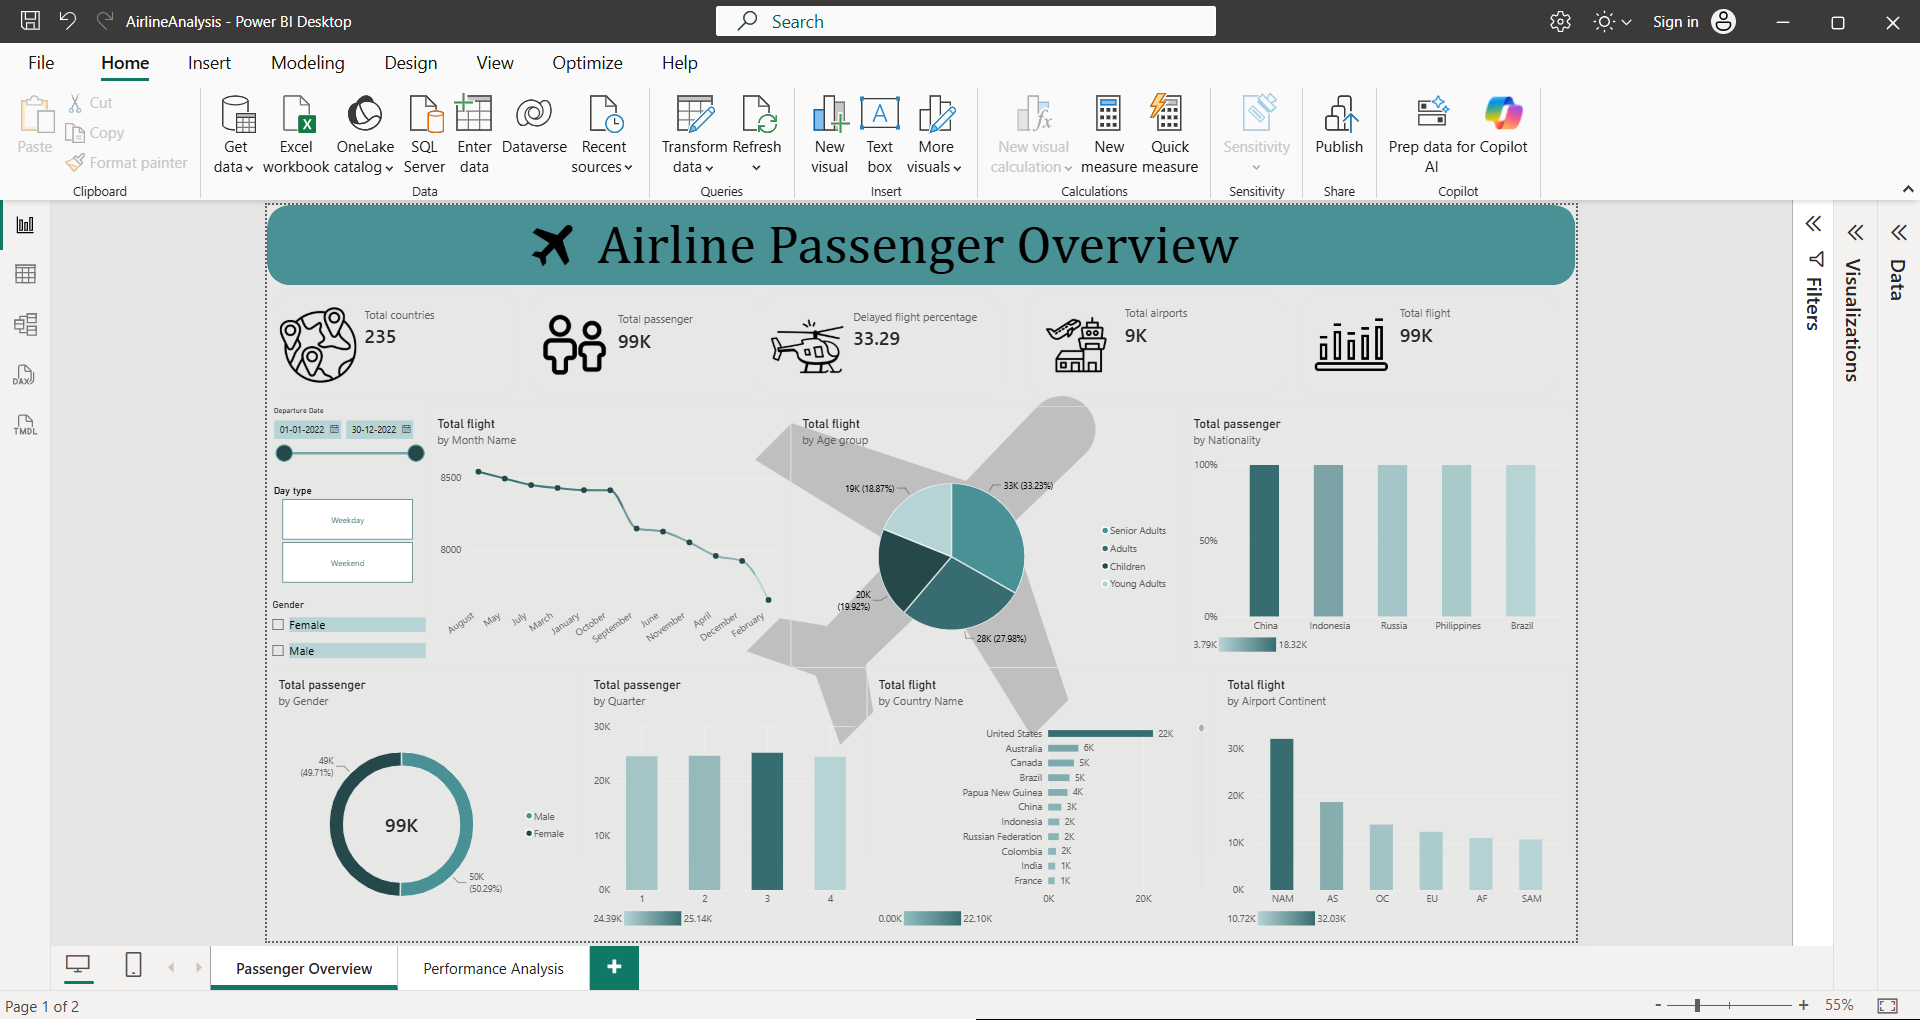

The page's visual inventory and layout, read from the dashboard file:
{"tool":"powerbi","page":{"name":"Passenger Overview","canvas":[1920,1080],"ordinal":0},"visuals":[{"type":"shape","box":[0,0,1920.1,117.6],"z":0},{"type":"cardVisual","title":"\tCountries Covered","fields":{"Data":["Airline Dataset Updated - v2.Total countries"]},"box":[1.8,130.2,365,150.4],"z":1000},{"type":"cardVisual","fields":{"Data":["Airline Dataset Updated - v2.On Time flight percentage"]},"box":[720.9,132.1,359.5,150.4],"z":2000},{"type":"cardVisual","fields":{"Data":["Airline Dataset Updated - v2.Total passenger"]},"box":[383.4,132.1,337.5,150.4],"z":3000},{"type":"cardVisual","fields":{"Data":["Airline Dataset Updated - v2.Total airports"]},"box":[1111.6,130.2,381.5,150.4],"z":4000},{"type":"cardVisual","fields":{"Data":["Airline Dataset Updated - v2.Total flight"]},"box":[1515.1,130.2,381.5,150.4],"z":5000},{"type":"lineChart","fields":{"Category":["Airline Dataset Updated - v2.Month Name"],"Y":["Airline Dataset Updated - v2.Total flight"]},"box":[233.4,295,535.7,383.6],"z":6000},{"type":"pieChart","fields":{"Category":["Airline Dataset Updated - v2.Age group"],"Y":["Airline Dataset Updated - v2.Total flight"]},"box":[769.1,295,577.3,383.6],"z":7000},{"type":"hundredPercentStackedColumnChart","fields":{"Category":["Airline Dataset Updated - v2.Nationality"],"Y":["Airline Dataset Updated - v2.Total passenger"]},"box":[1342.8,295,577.3,383.6],"z":8000},{"type":"donutChart","fields":{"Category":["Airline Dataset Updated - v2.Gender"],"Y":["Airline Dataset Updated - v2.Total passenger"]},"box":[0,678.7,462.2,401.7],"z":9000},{"type":"clusteredBarChart","fields":{"Category":["Airline Dataset Updated - v2.Country Name"],"Y":["Airline Dataset Updated - v2.Total flight"]},"box":[880.4,678.7,511.8,401.7],"z":10000},{"type":"columnChart","fields":{"Category":["Airline Dataset Updated - v2.Airport Continent"],"Y":["Airline Dataset Updated - v2.Total flight"]},"box":[1392.2,678.7,528.3,401.7],"z":11000},{"type":"image","box":[165.1,29.3,506.3,60.5],"z":12000},{"type":"slicer","fields":{"Values":["Airline Dataset Updated - v2.Departure Date"]},"box":[1.8,295.3,232.9,115.6],"z":13000},{"type":"slicer","fields":{"Values":["Airline Dataset Updated - v2.Gender"]},"box":[0,577.8,232.9,100.9],"z":14000},{"type":"clusteredColumnChart","fields":{"Category":["Airline Dataset Updated - v2.Quarter"],"Y":["Airline Dataset Updated - v2.Total passenger"]},"box":[462.2,678.7,418.2,401.7],"z":15000},{"type":"slicer","fields":{"Values":["Airline Dataset Updated - v2.Day type"]},"box":[1.8,410.9,231.1,144.9],"z":16000}]}

Visuals, with their boxes on the page's 1920x1080 design canvas (x1, y1, x2, y2). These are canvas units, not pixel positions in the 1920x1020 screenshot, which may show the page scaled, cropped or inside an application window:
shape: box(0, 0, 1920, 118)
"	Countries Covered" cardVisual: box(2, 130, 367, 281)
cardVisual - Airline Dataset Updated - v2.On Time flight percentage: box(721, 132, 1080, 282)
cardVisual - Airline Dataset Updated - v2.Total passenger: box(383, 132, 721, 282)
cardVisual - Airline Dataset Updated - v2.Total airports: box(1112, 130, 1493, 281)
cardVisual - Airline Dataset Updated - v2.Total flight: box(1515, 130, 1897, 281)
lineChart - Airline Dataset Updated - v2.Month Name x Airline Dataset Updated - v2.Total flight: box(233, 295, 769, 679)
pieChart - Airline Dataset Updated - v2.Age group x Airline Dataset Updated - v2.Total flight: box(769, 295, 1346, 679)
hundredPercentStackedColumnChart - Airline Dataset Updated - v2.Nationality x Airline Dataset Updated - v2.Total passenger: box(1343, 295, 1920, 679)
donutChart - Airline Dataset Updated - v2.Gender x Airline Dataset Updated - v2.Total passenger: box(0, 679, 462, 1080)
clusteredBarChart - Airline Dataset Updated - v2.Country Name x Airline Dataset Updated - v2.Total flight: box(880, 679, 1392, 1080)
columnChart - Airline Dataset Updated - v2.Airport Continent x Airline Dataset Updated - v2.Total flight: box(1392, 679, 1920, 1080)
image: box(165, 29, 671, 90)
slicer - Airline Dataset Updated - v2.Departure Date: box(2, 295, 235, 411)
slicer - Airline Dataset Updated - v2.Gender: box(0, 578, 233, 679)
clusteredColumnChart - Airline Dataset Updated - v2.Quarter x Airline Dataset Updated - v2.Total passenger: box(462, 679, 880, 1080)
slicer - Airline Dataset Updated - v2.Day type: box(2, 411, 233, 556)
